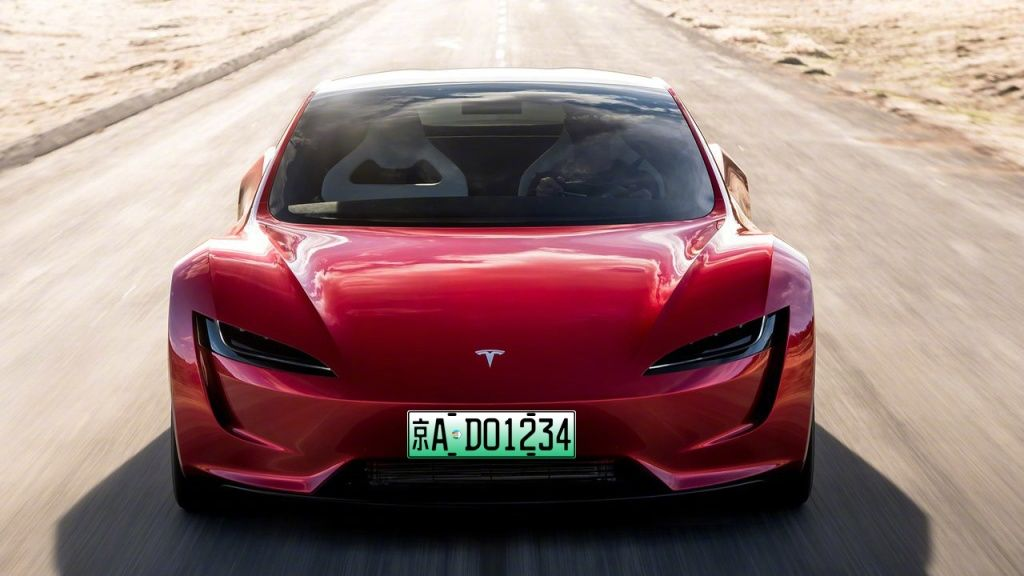plate: (394, 397, 590, 480)
